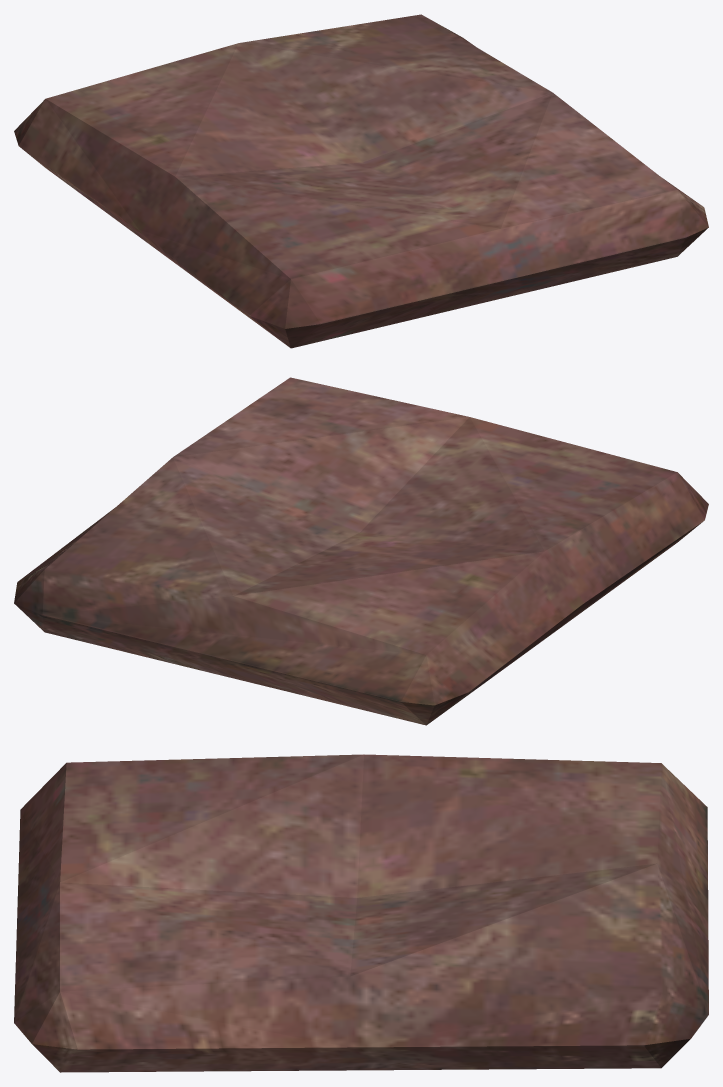
The model's file is frn_all_throwpillow_med_s02_l0.fbx.
3 views of the same model, one above another, from view 1: azimuth 30°, elevation 25°; view 2: azimuth 150°, elevation 25°; view 3: azimuth 270°, elevation 25° (orthographic). The views are drawn at different scales.
Visible parts, largest first — view 1: mesh_node; view 2: mesh_node; view 3: mesh_node.
Part boxes in pixels (x1=…): mesh_node: x1=14, y1=14, x2=708, y2=348; mesh_node: x1=14, y1=377, x2=708, y2=725; mesh_node: x1=14, y1=754, x2=708, y2=1072.
Size of the model in its own units: 1.25 by 0.2107 by 1.38.
Materials: 1 (1 with a texture image).
